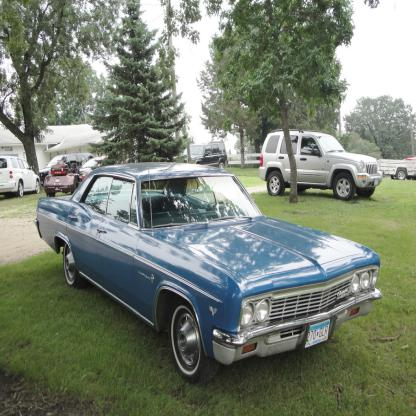Car: (0, 140, 381, 385), (256, 129, 383, 201)
